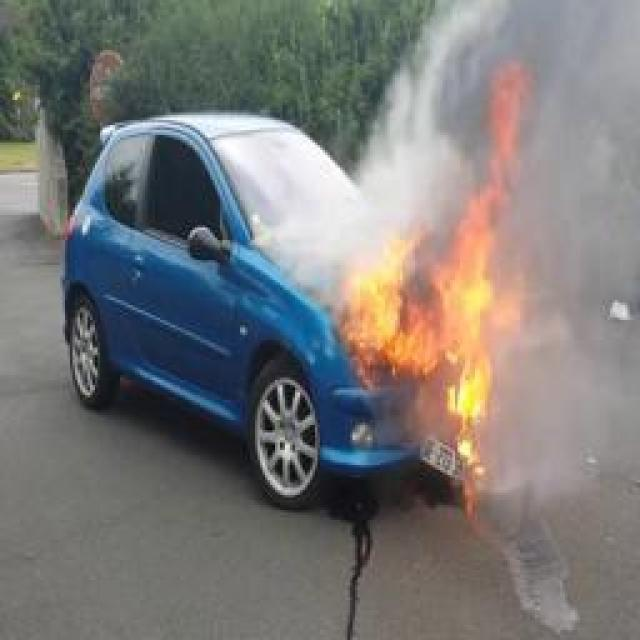Fire: (348, 62, 524, 480)
